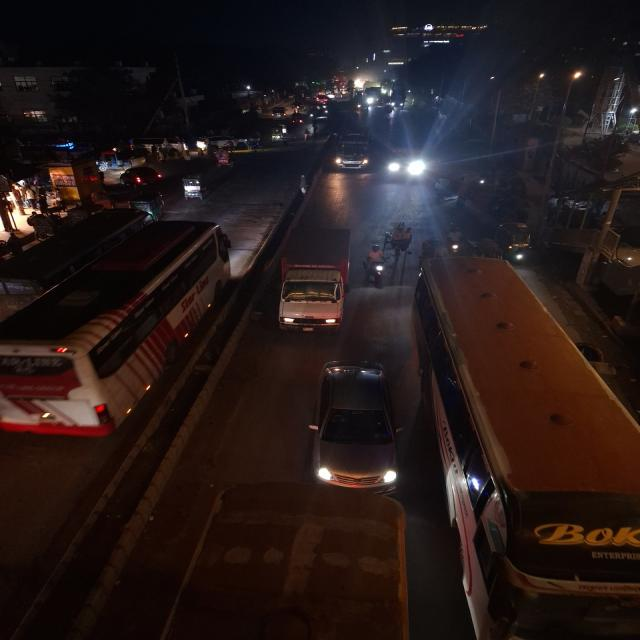bus: (418, 253, 640, 631), (0, 211, 229, 443), (330, 130, 370, 173), (362, 86, 382, 106)
car: (307, 357, 402, 499), (116, 165, 166, 189), (269, 106, 289, 119)
cng: (495, 219, 536, 267)
motorcycle: (363, 242, 387, 286), (444, 223, 462, 256)
rickshaw: (382, 220, 415, 258), (177, 170, 213, 203), (211, 148, 235, 172), (159, 145, 184, 163)
truck: (272, 222, 354, 336)
